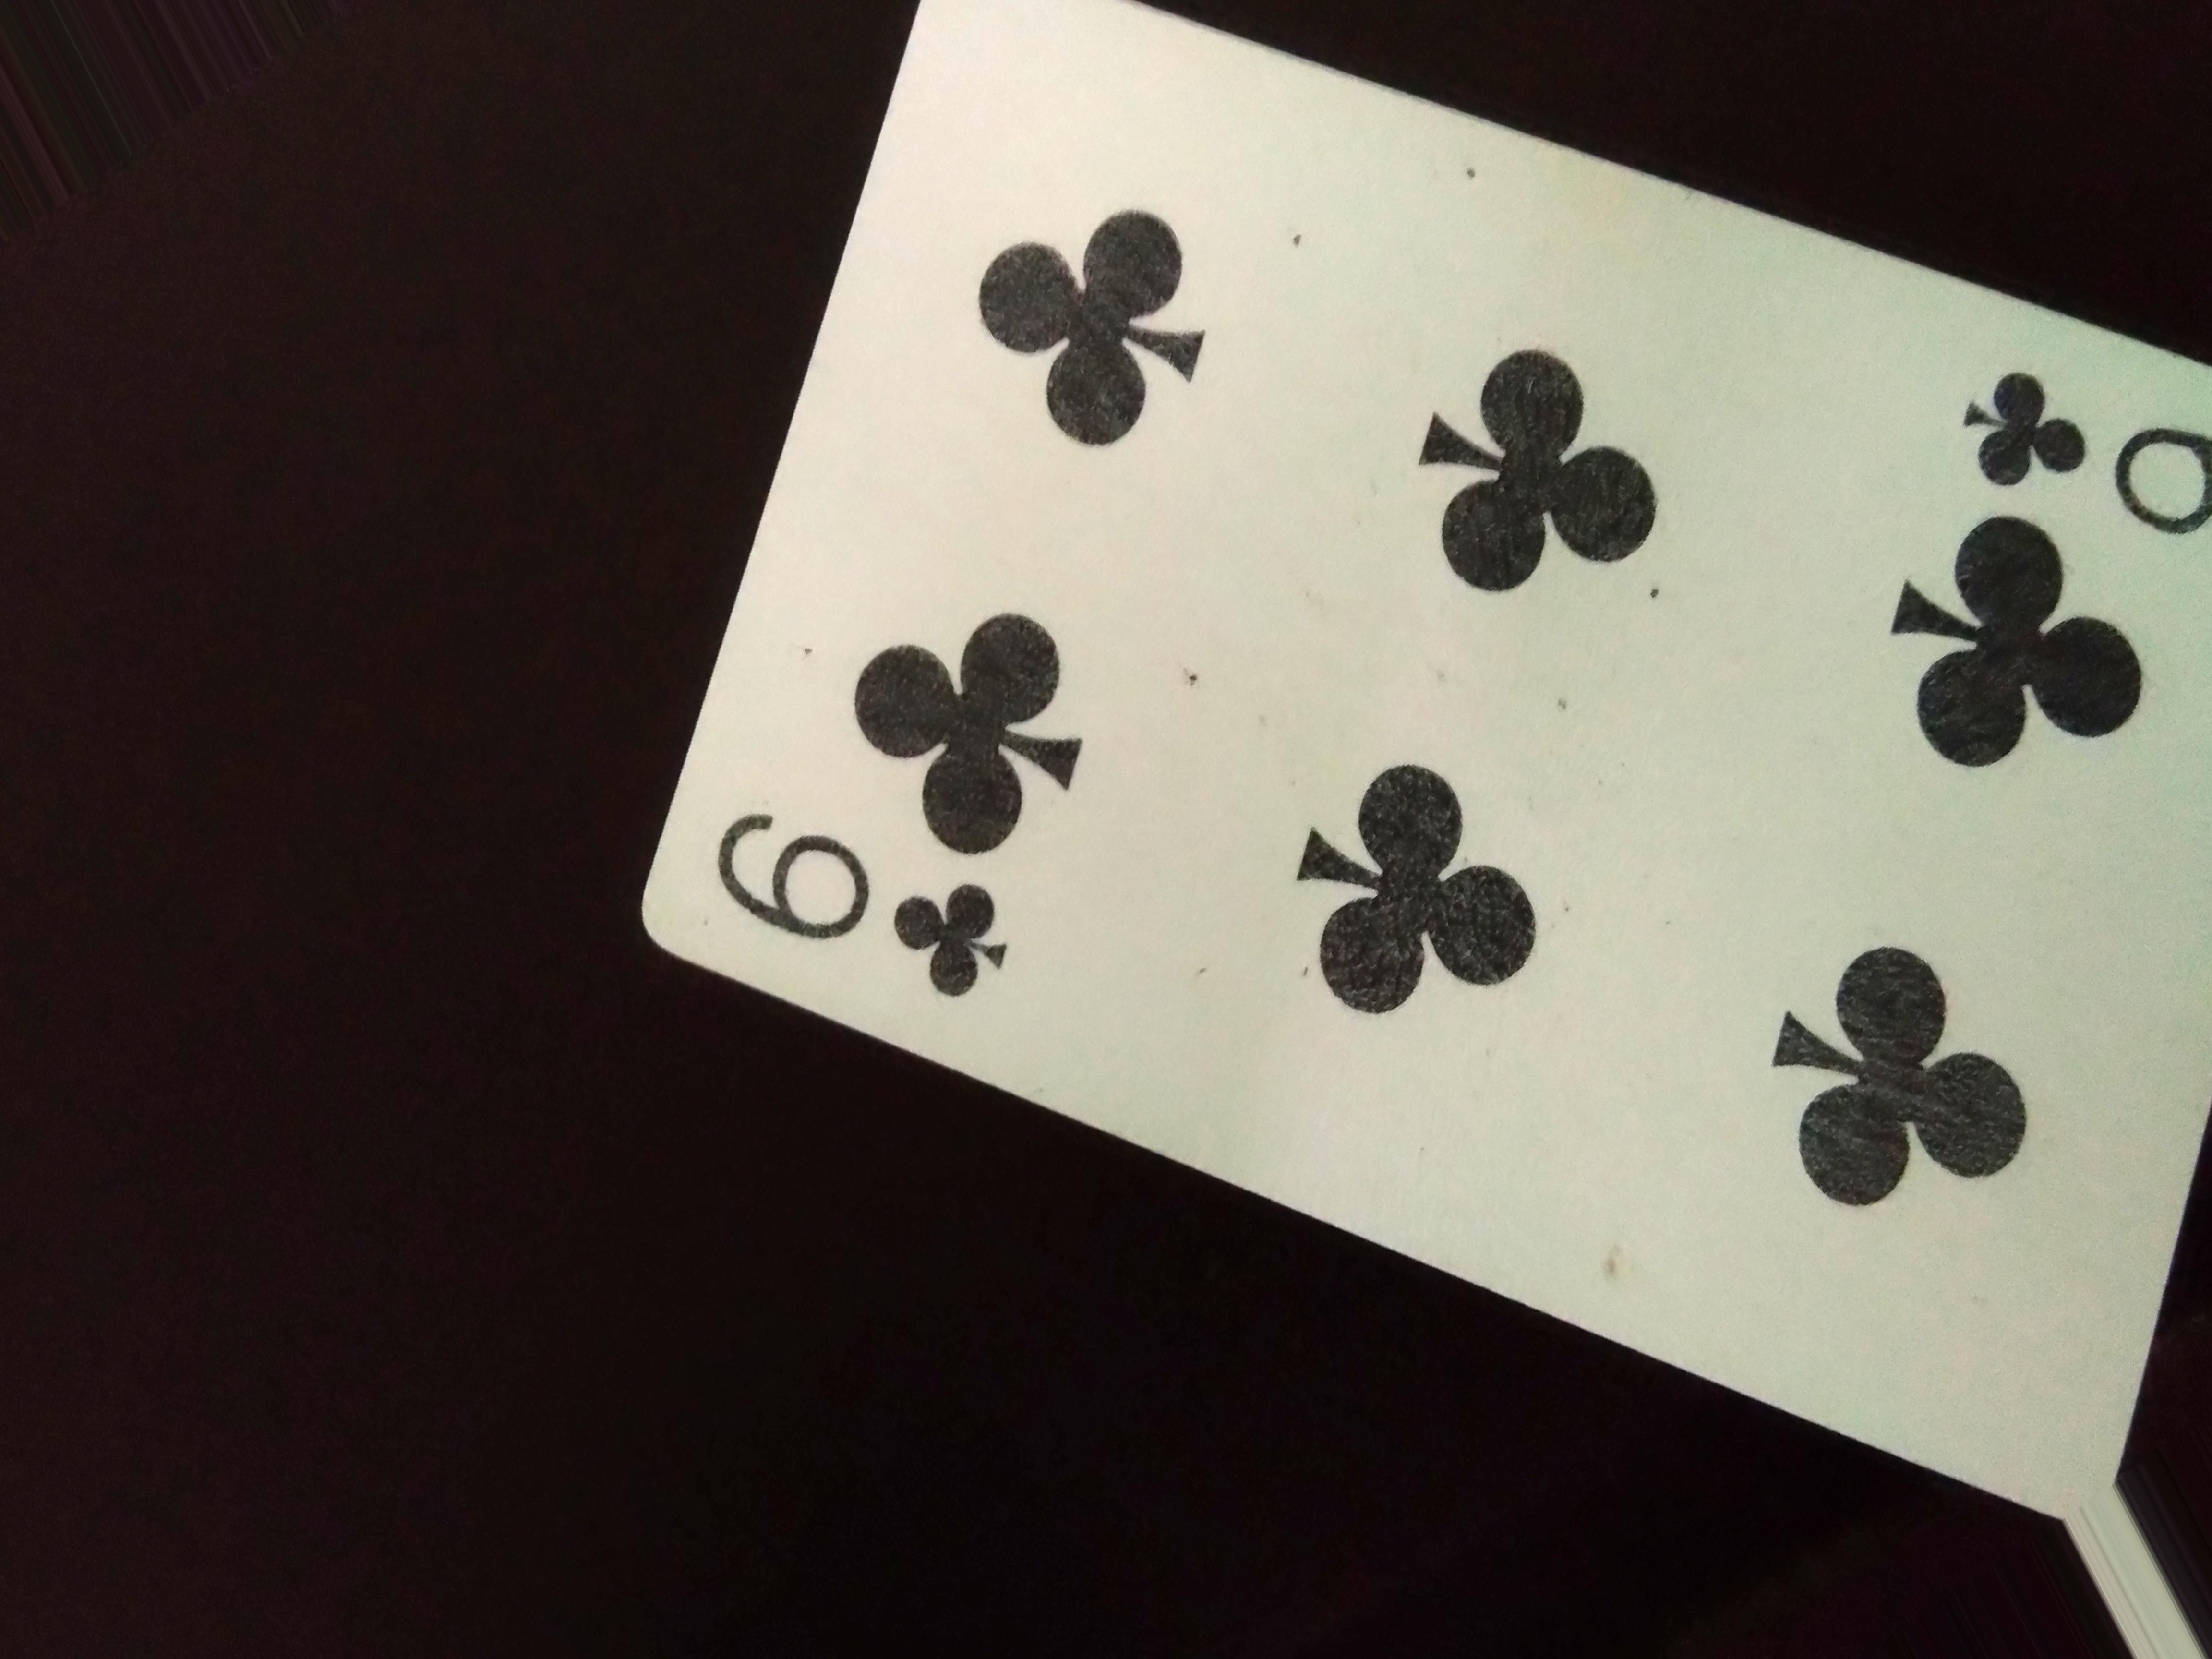6C: (698, 793, 1010, 997)
